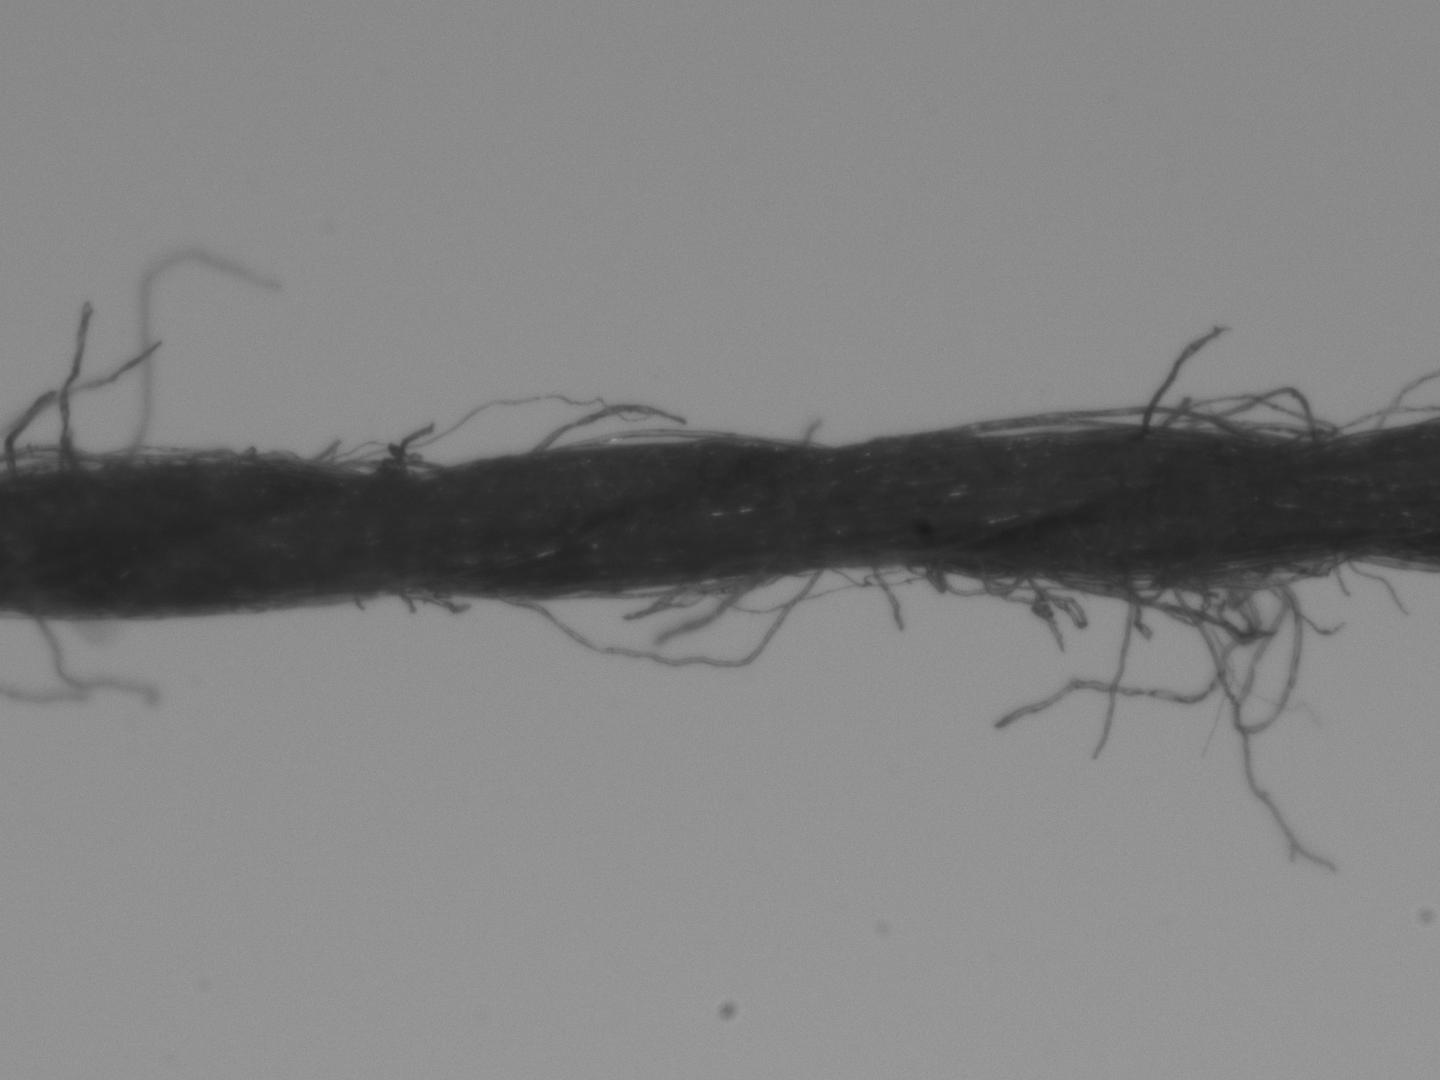loop_fiber: (480, 562, 824, 668), (685, 563, 932, 616), (1163, 385, 1318, 445), (949, 411, 1138, 445), (1197, 552, 1350, 590), (561, 424, 749, 453), (346, 453, 442, 475)
protruding_fiber: (1160, 580, 1337, 877), (1, 337, 166, 469), (1138, 323, 1231, 430), (1095, 580, 1134, 753), (57, 298, 93, 466)
